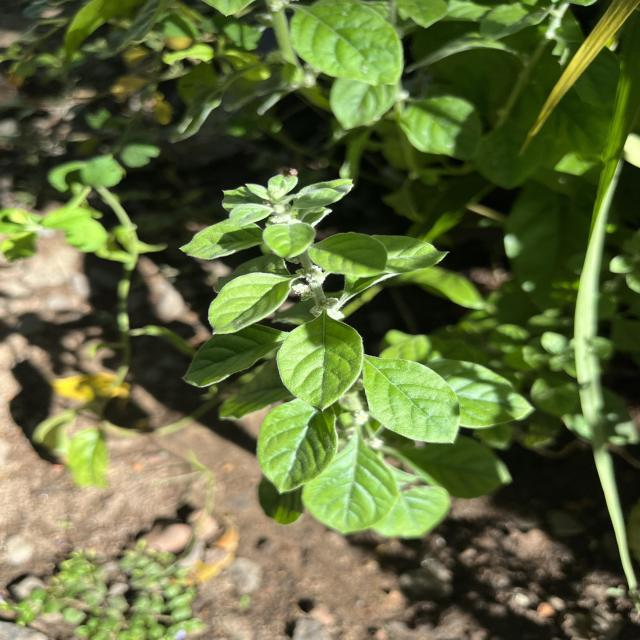Aerva lanata: (359, 354, 462, 446), (274, 314, 368, 414), (254, 396, 340, 496), (204, 269, 294, 336), (306, 228, 390, 280), (177, 217, 262, 261)
